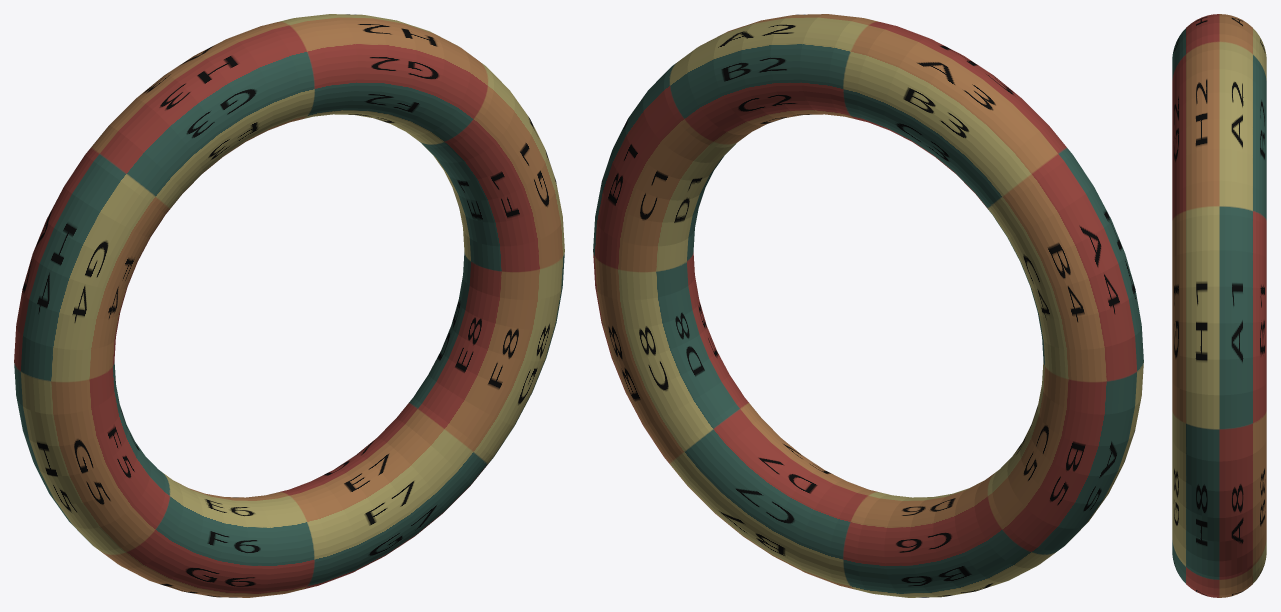
File: texture_torus_R15_r7.glb
3 views of the same model, side by side, from view 1: azimuth 30°, elevation 25°; view 2: azimuth 150°, elevation 25°; view 3: azimuth 270°, elevation 25° (orthographic). The views are drawn at different scales.
Parts seen in each view (by area): view 1: world; view 2: world; view 3: world.
Part boxes in pixels (x1,y1,x2,y2): world: (14,14,564,597); world: (593,14,1143,597); world: (1172,14,1266,597).
Size of the model in its own units: 23.87 by 23.82 by 3.86.
Materials: 1 (1 with a texture image).
